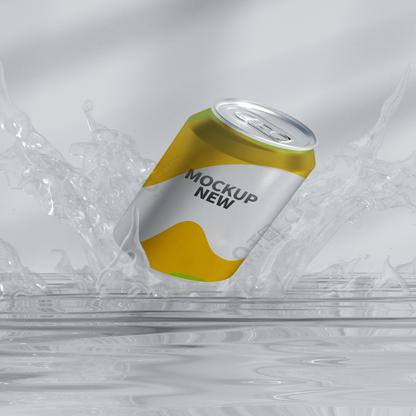can: (109, 95, 341, 284)
